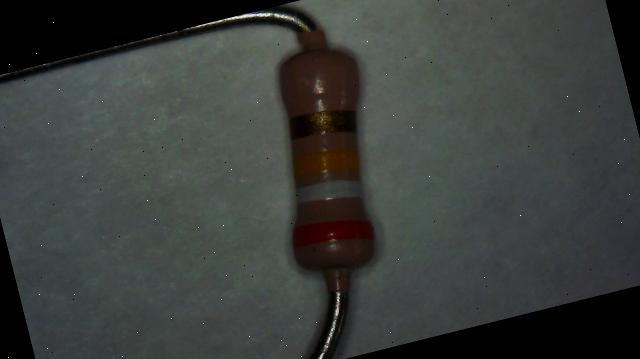gold: (286, 102, 358, 146)
orange: (289, 209, 374, 257)
resistor: (232, 32, 390, 292)
white: (294, 172, 362, 211)
yellow: (290, 142, 360, 183)
